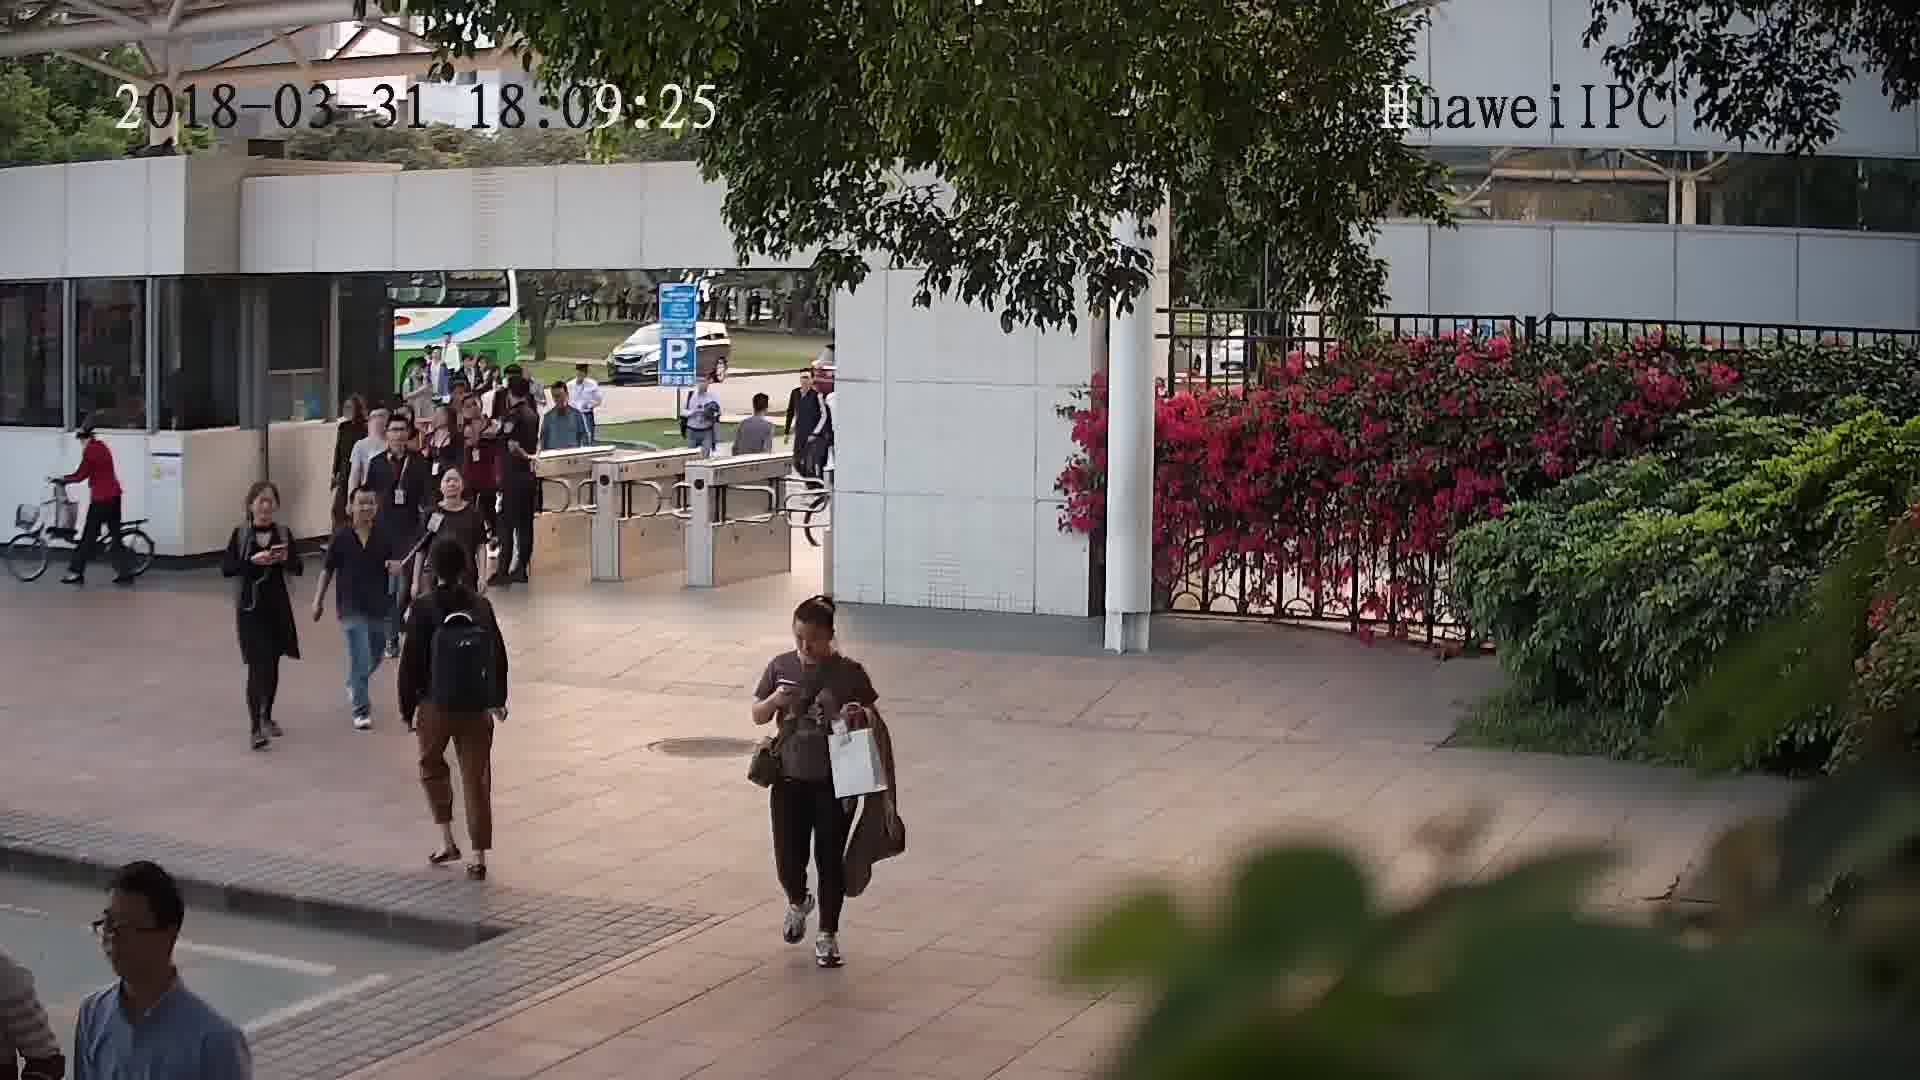face: (86, 888, 176, 978), (788, 620, 831, 663)
person: (67, 854, 239, 1050), (767, 594, 871, 686), (409, 534, 492, 620), (331, 482, 393, 548), (421, 464, 485, 523), (235, 477, 294, 541), (363, 415, 423, 472), (69, 413, 115, 465), (500, 371, 540, 427), (454, 392, 502, 436), (539, 376, 580, 424), (740, 389, 780, 434), (420, 407, 460, 451), (565, 360, 605, 400), (684, 373, 724, 410), (362, 404, 393, 451), (400, 355, 434, 390)
